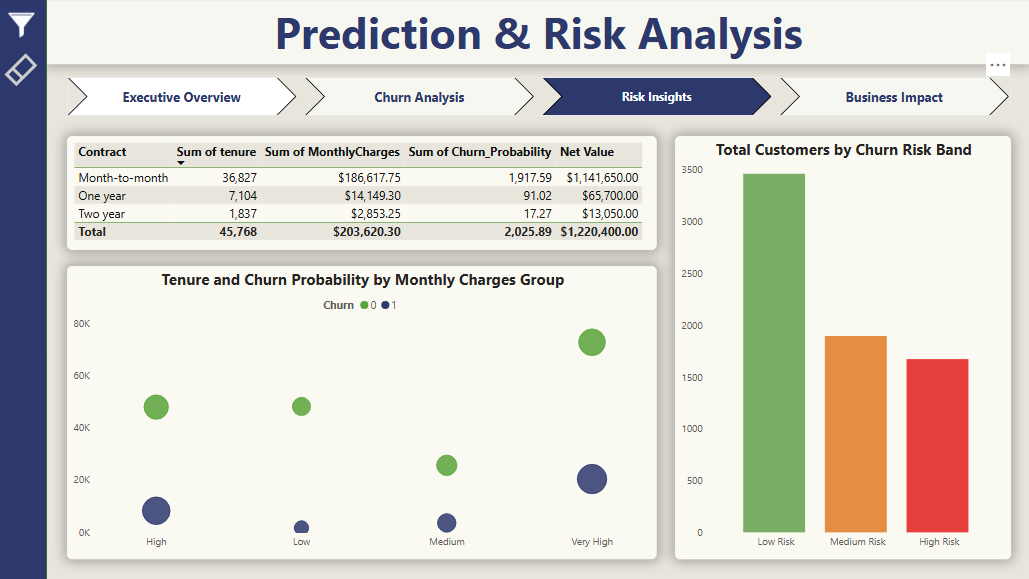

The page's visual inventory and layout, read from the dashboard file:
{"tool":"powerbi","page":{"name":"Risk Insights","canvas":[1280,720],"ordinal":2},"visuals":[{"type":"textbox","box":[60.7,0,1219.3,81.7],"z":0},{"type":"tableEx","fields":{"Values":["customer_churn_predictions.Contract","Sum(customer_churn_predictions.tenure)","Sum(customer_churn_predictions.MonthlyCharges)","Sum(customer_churn_predictions.Churn_Probability)","Measure_Table.Net Value"]},"box":[86.7,170.8,693.2,141.1],"z":1000},{"type":"clusteredColumnChart","fields":{"Y":["Measure_Table.Total Customers"],"Category":["customer_churn_predictions.Churn Risk Band"]},"box":[808.4,170.8,444.4,523.6],"z":2000},{"type":"scatterChart","title":"Tenure and Churn Probability by Monthly Charges Group","fields":{"X":["customer_churn_predictions.MonthlyCharges_group"],"Y":["Sum(customer_churn_predictions.tenure)"],"Series":["customer_churn_predictions.Churn"],"Size":["Sum(customer_churn_predictions.Churn_Probability)"]},"box":[86.7,324.3,693.2,370.1],"z":3000},{"type":"shape","box":[0,0,61.9,720.5],"z":4000},{"type":"actionButton","box":[0,0,60.7,64.4],"z":5000},{"type":"actionButton","title":"Clear Filters","box":[0,64.5,60.4,49.4],"z":6000},{"type":"pageNavigator","box":[86.7,97.8,1168.6,48.3],"z":7000}]}

Visuals, with their boxes on the page's 1280x720 design canvas (x1, y1, x2, y2). These are canvas units, not pixel positions in the 1029x579 screenshot, which may show the page scaled, cropped or inside an application window:
textbox: <bbox>61, 0, 1280, 82</bbox>
tableEx - customer_churn_predictions.Contract x Sum(customer_churn_predictions.tenure): <bbox>87, 171, 780, 312</bbox>
clusteredColumnChart - Measure_Table.Total Customers x customer_churn_predictions.Churn Risk Band: <bbox>808, 171, 1253, 694</bbox>
"Tenure and Churn Probability by Monthly Charges Group" scatterChart: <bbox>87, 324, 780, 694</bbox>
shape: <bbox>0, 0, 62, 720</bbox>
actionButton: <bbox>0, 0, 61, 64</bbox>
"Clear Filters" actionButton: <bbox>0, 64, 60, 114</bbox>
pageNavigator: <bbox>87, 98, 1255, 146</bbox>
